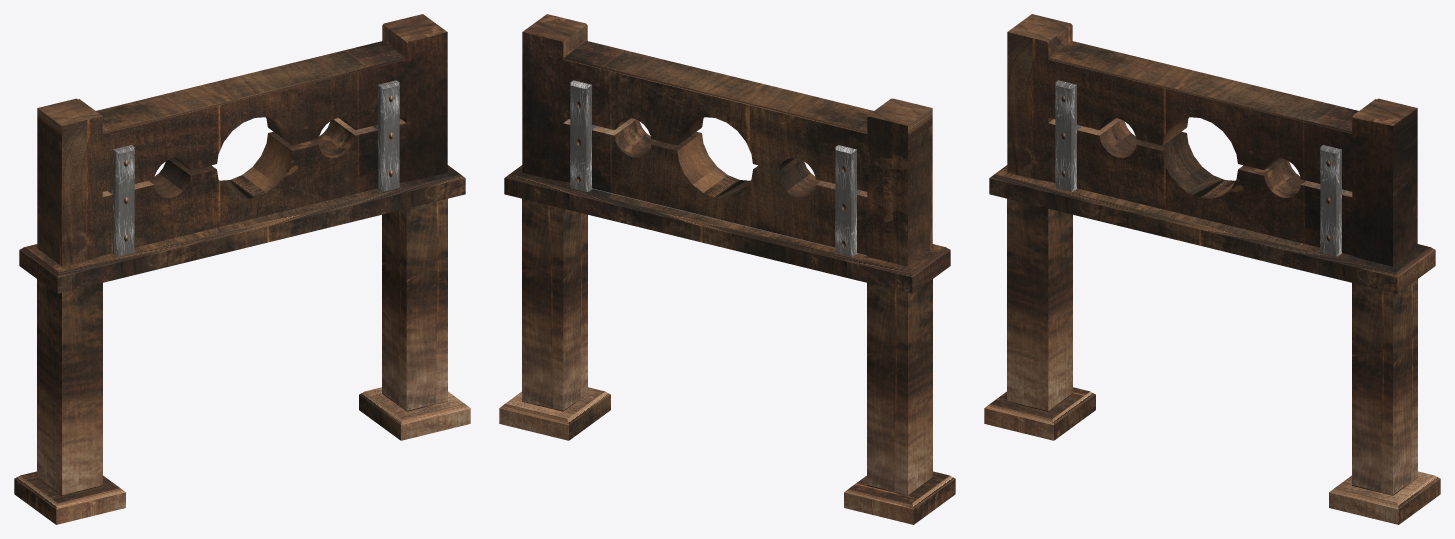
File: Stockade.fbx
3 renders of one model, left to right at view 1: azimuth 30°, elevation 25°; view 2: azimuth 150°, elevation 25°; view 3: azimuth 330°, elevation 25°, orthographic.
Parts seen in each view (by area): view 1: pCube8; view 2: pCube8; view 3: pCube8.
Boxes of the visible parts, x1=… form: pCube8: x1=14, y1=14, x2=470, y2=524; pCube8: x1=499, y1=14, x2=955, y2=524; pCube8: x1=984, y1=14, x2=1440, y2=524.
Size of the model in its own units: 5.04 by 4.52 by 0.8839.
Materials: 5 (3 with a texture image).
